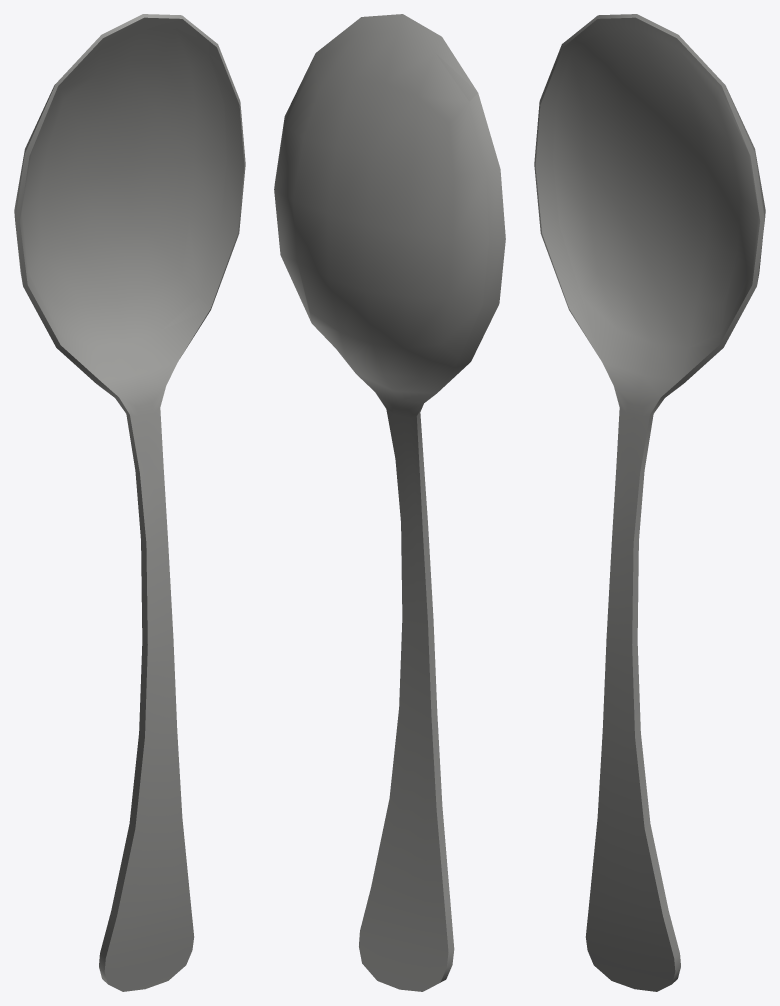
Rendered from spoon.glb.
3 views of the same model, side by side, from view 1: azimuth 30°, elevation 25°; view 2: azimuth 150°, elevation 25°; view 3: azimuth 330°, elevation 25° (orthographic).
Parts seen in each view (by area): view 1: spoon; view 2: spoon; view 3: spoon.
Part boxes in pixels (x1,y1,x2,y2): spoon: [14, 14, 245, 991]; spoon: [274, 14, 505, 991]; spoon: [534, 14, 765, 991].
Size of the model in its own units: 0.0436 by 0.1756 by 0.0183.
Materials: 1 (1 with a texture image).
